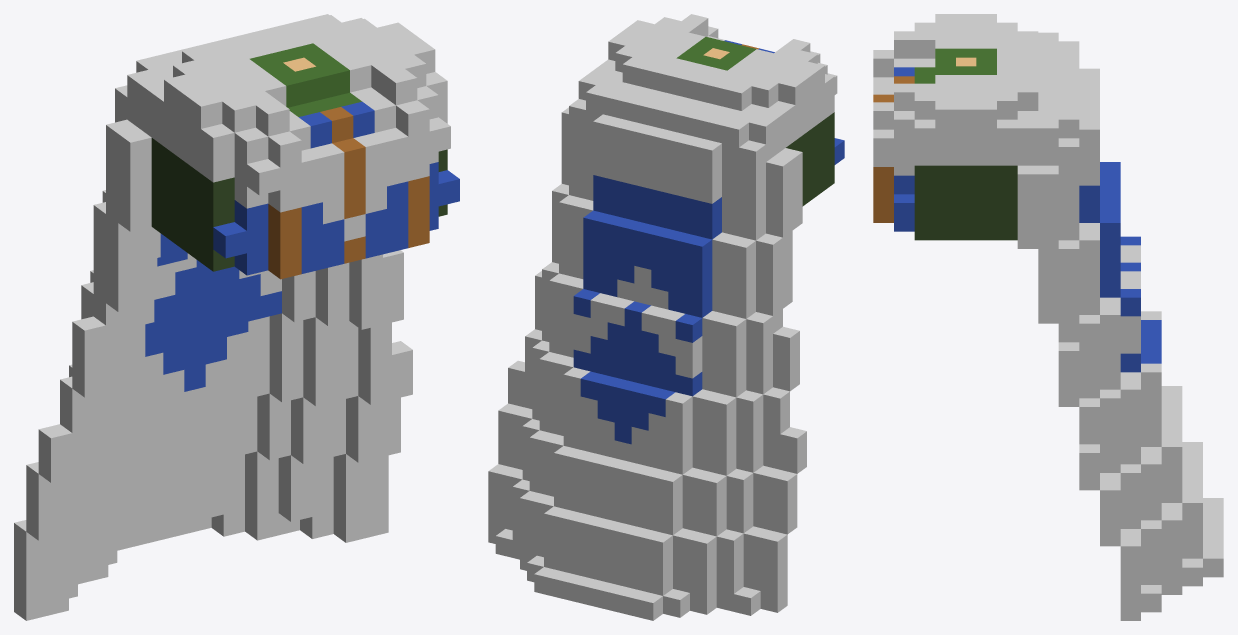
The model's file is MKnightChest.fbx.
3 renders of one model, left to right at view 1: azimuth 30°, elevation 25°; view 2: azimuth 150°, elevation 25°; view 3: azimuth 270°, elevation 25°, orthographic. The views are drawn at different scales.
Parts seen in each view (by area): view 1: Union_7; view 2: Union_7; view 3: Union_7.
Boxes of the visible parts, x1,y1,x2,y2 form: Union_7: (14,14,459,620); Union_7: (488,14,844,620); Union_7: (873,14,1223,620).
Size of the model in its own units: 17 by 26 by 17.
Materials: 1 (1 with a texture image).
